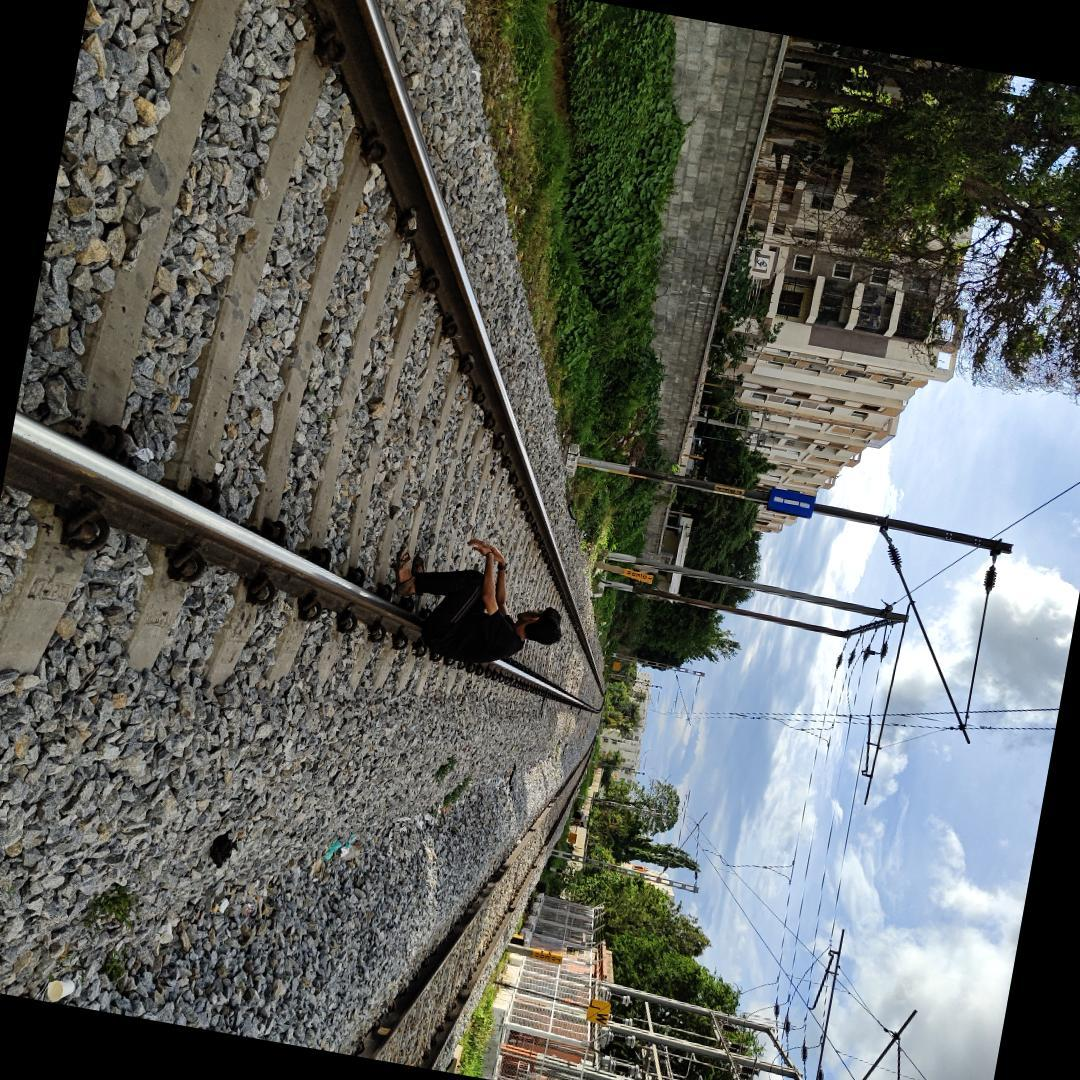sitting: (376, 518, 588, 690)
